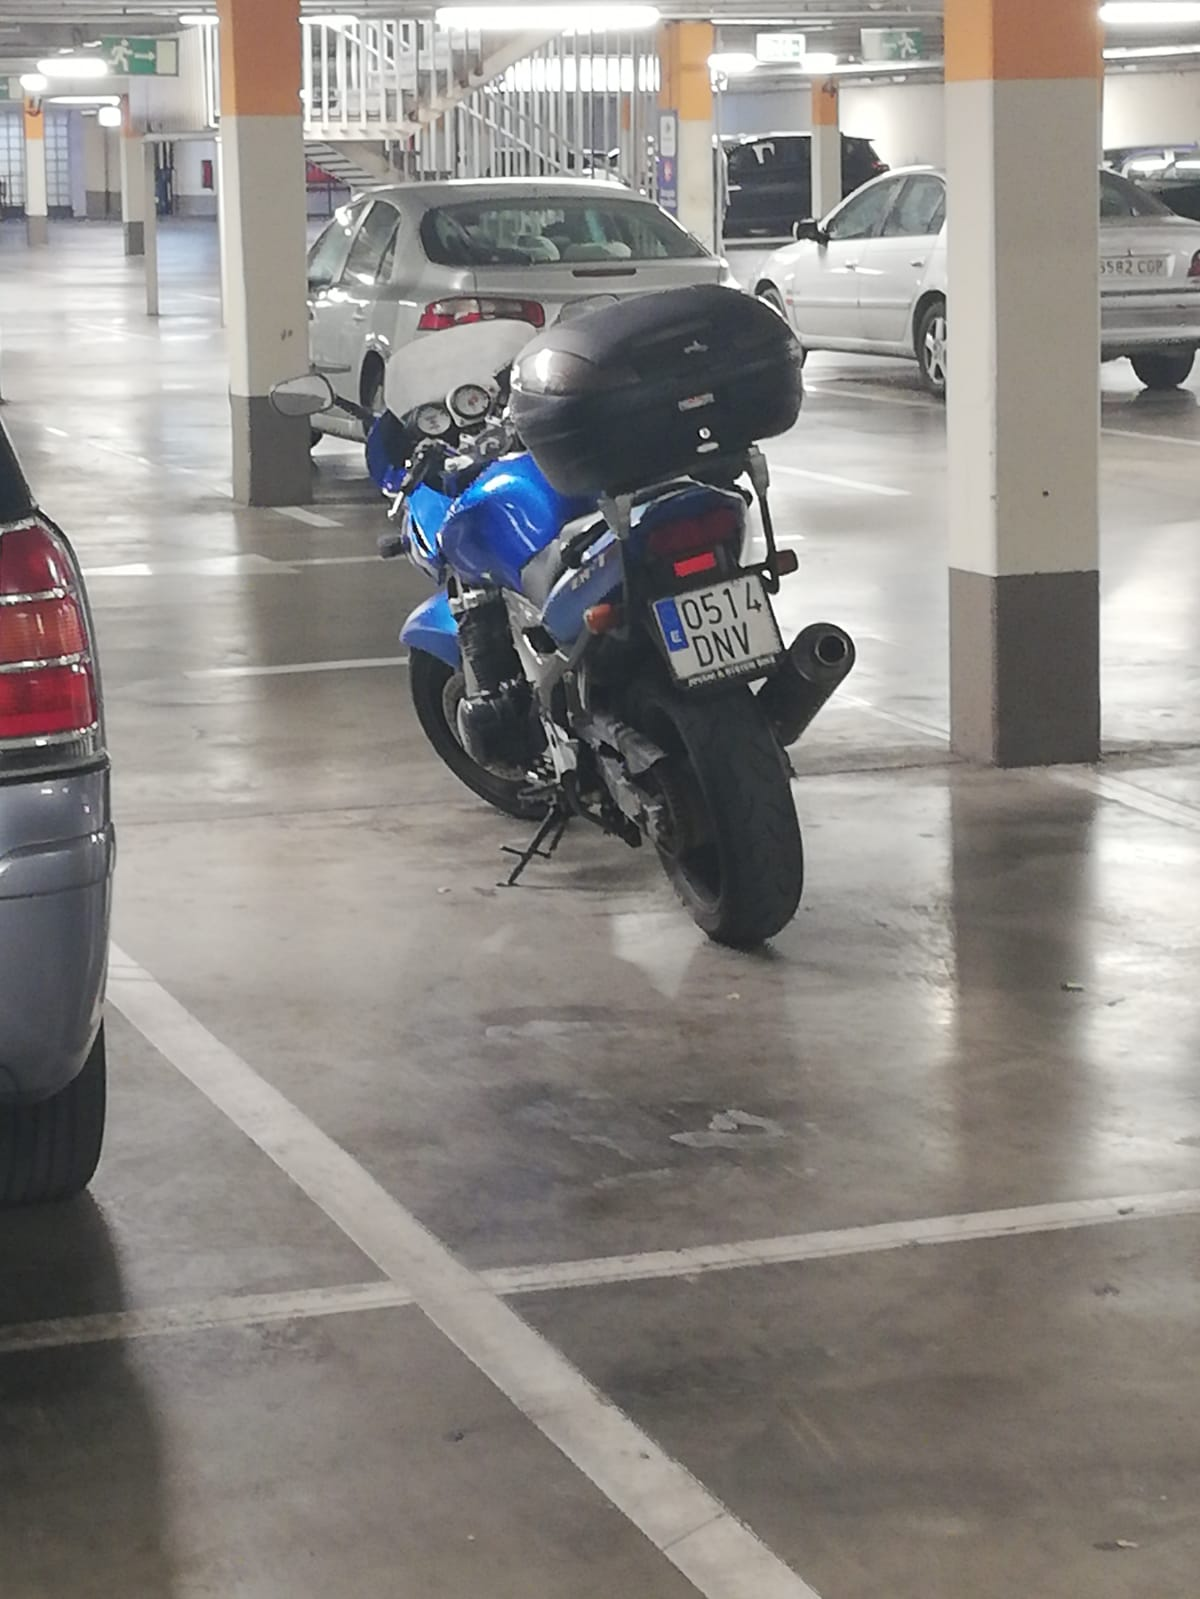Car: (334, 308, 882, 950)
Plate: (645, 609, 771, 701)
